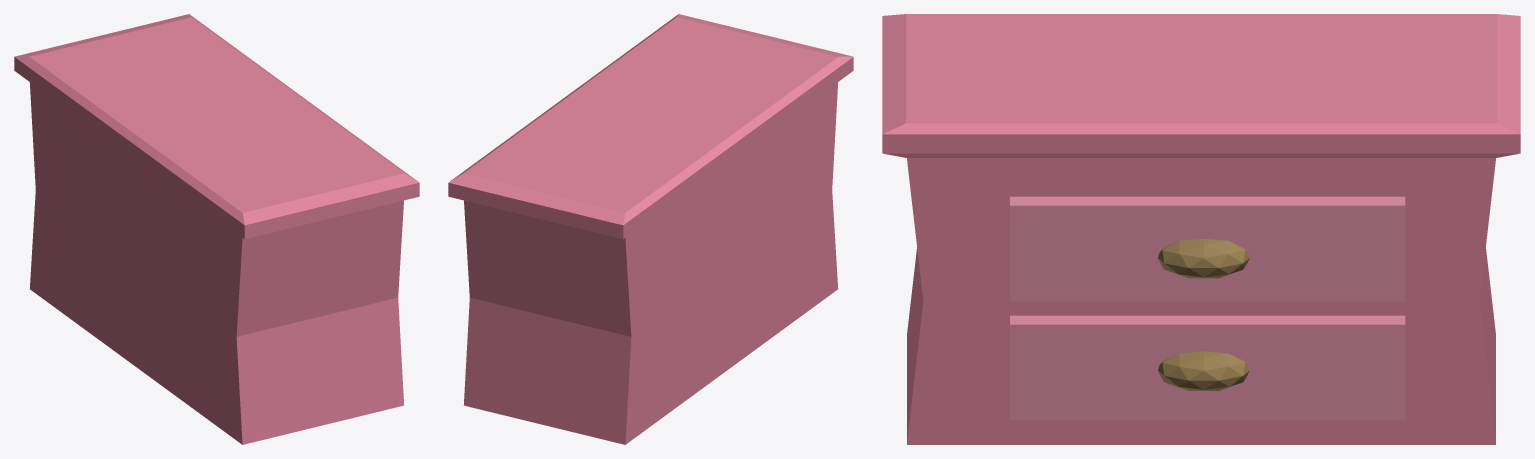
Rendered from Wardrobe.fbx.
The picture shows the model from 3 angles, left to right: view 1: azimuth 30°, elevation 25°; view 2: azimuth 150°, elevation 25°; view 3: azimuth 270°, elevation 25°; orthographic projection. The views are drawn at different scales.
Visible parts, largest first — view 1: Cube.009; view 2: Cube.009; view 3: Cube.009, Icosphere, Icosphere.001.
Boxes of the visible parts, <box> form: Cube.009: <box>14,14,419,444</box>; Cube.009: <box>448,14,853,444</box>; Cube.009: <box>882,14,1520,444</box>; Icosphere: <box>1158,238,1249,278</box>; Icosphere.001: <box>1158,351,1249,390</box>.
Size of the model in its own units: 199 by 224 by 403.
